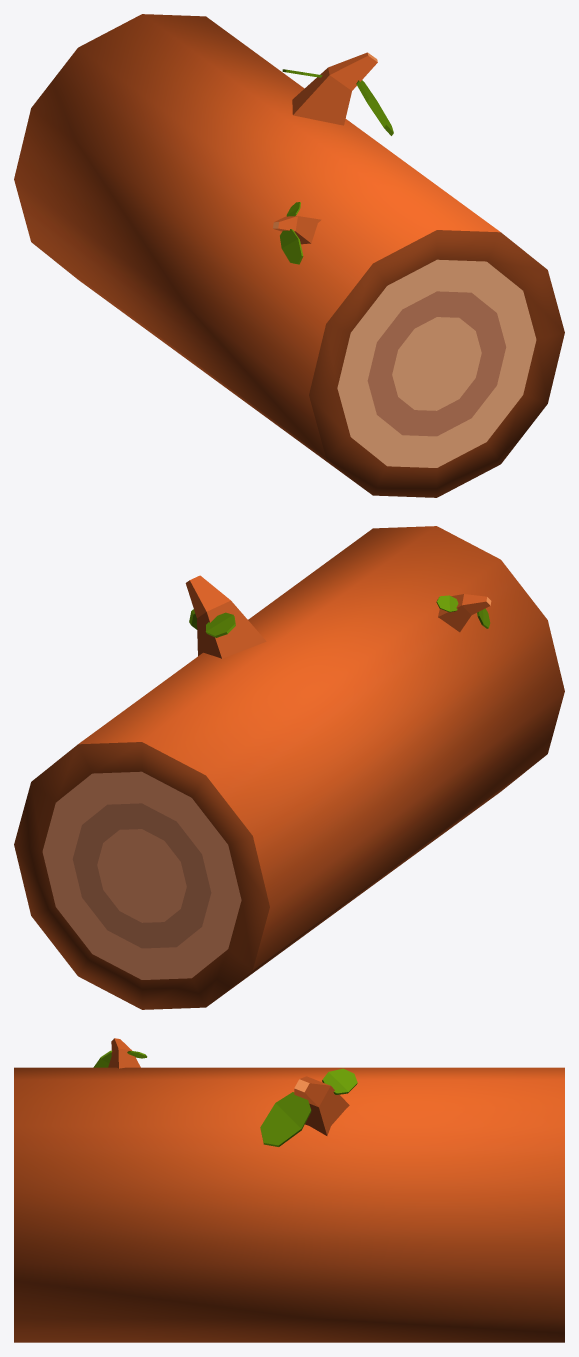
The model's file is WoodStack.fbx.
The picture shows the model from 3 angles, top to bottom: view 1: azimuth 30°, elevation 25°; view 2: azimuth 150°, elevation 25°; view 3: azimuth 270°, elevation 25°; orthographic projection. The views are drawn at different scales.
Parts seen in each view (by area): view 1: Cylinder.002; view 2: Cylinder.002; view 3: Cylinder.002.
Boxes of the visible parts, bbox=[...] form: Cylinder.002: bbox=[14, 14, 564, 497]; Cylinder.002: bbox=[14, 526, 564, 1009]; Cylinder.002: bbox=[14, 1038, 564, 1342].
Size of the model in its own units: 65.47 by 75.73 by 131.
